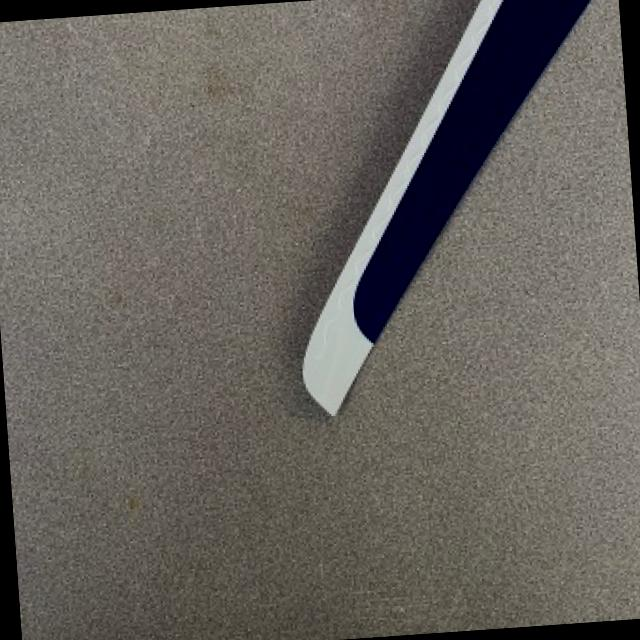healthy: (305, 0, 590, 413)
